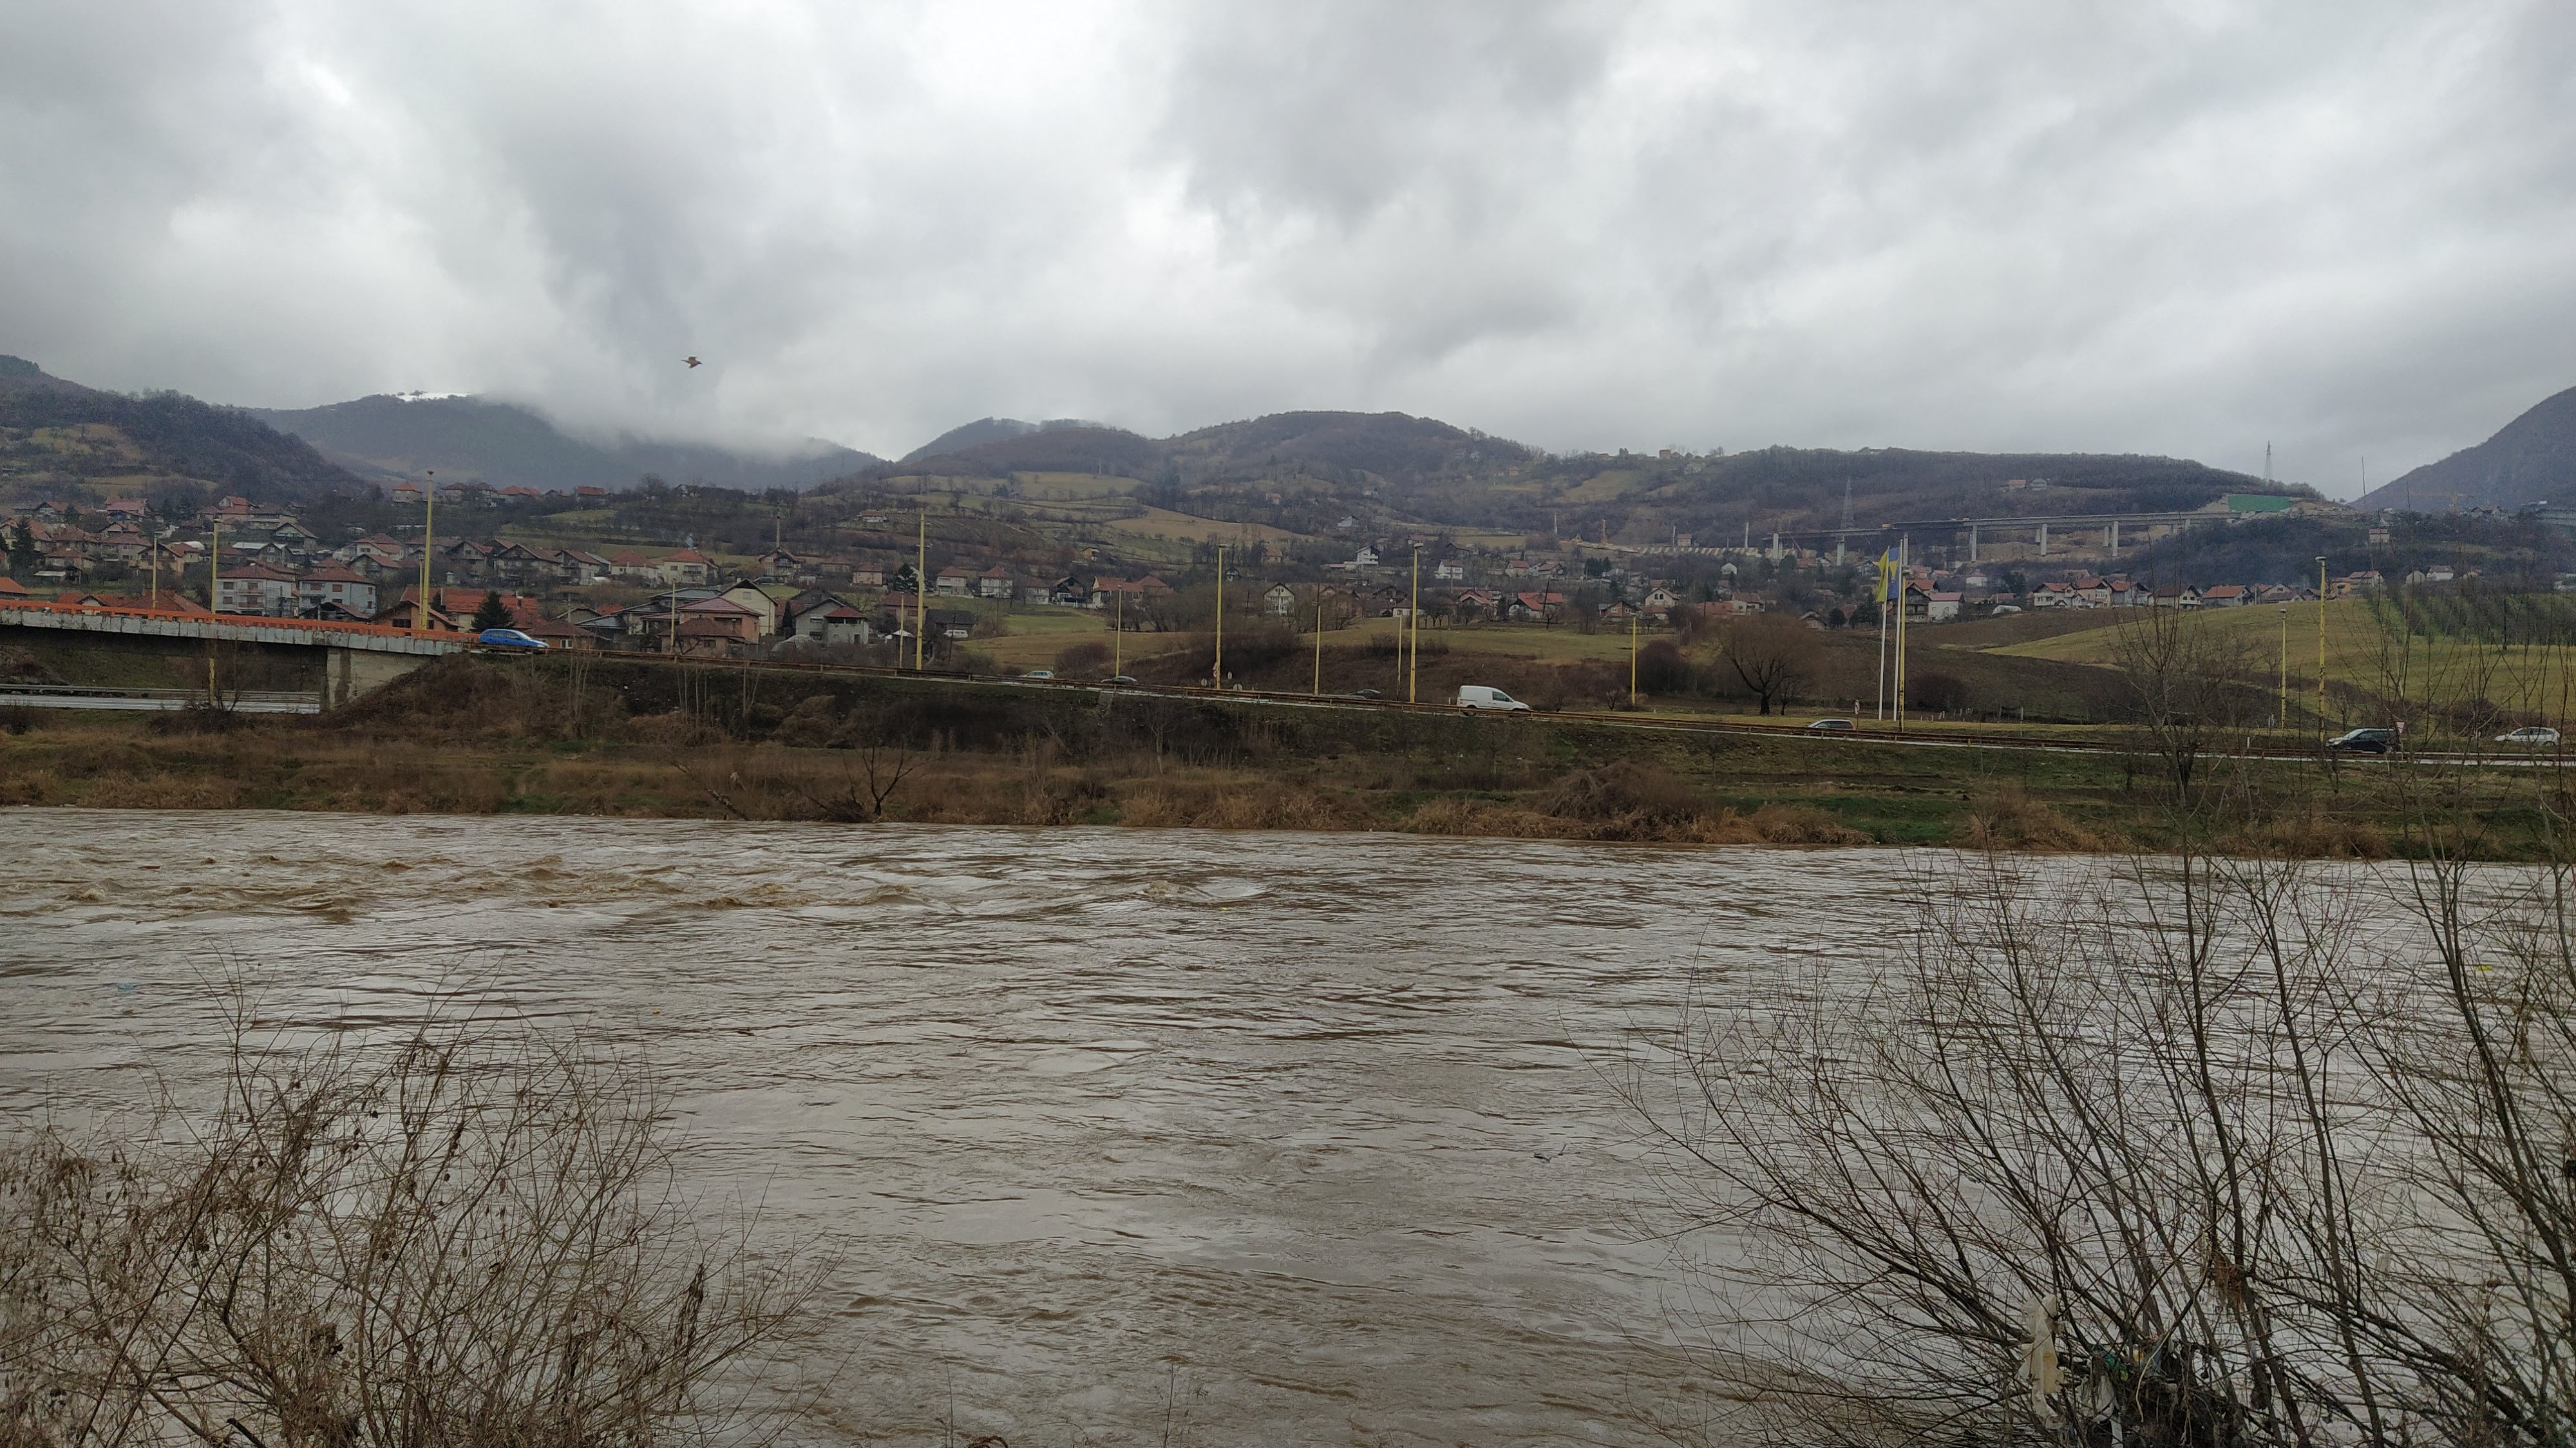Plastic Bottle: (1534, 1151, 1555, 1159), (119, 982, 133, 990), (548, 901, 559, 908), (2479, 965, 2493, 968), (653, 1009, 658, 1014), (136, 920, 142, 924), (1224, 906, 1226, 910)
